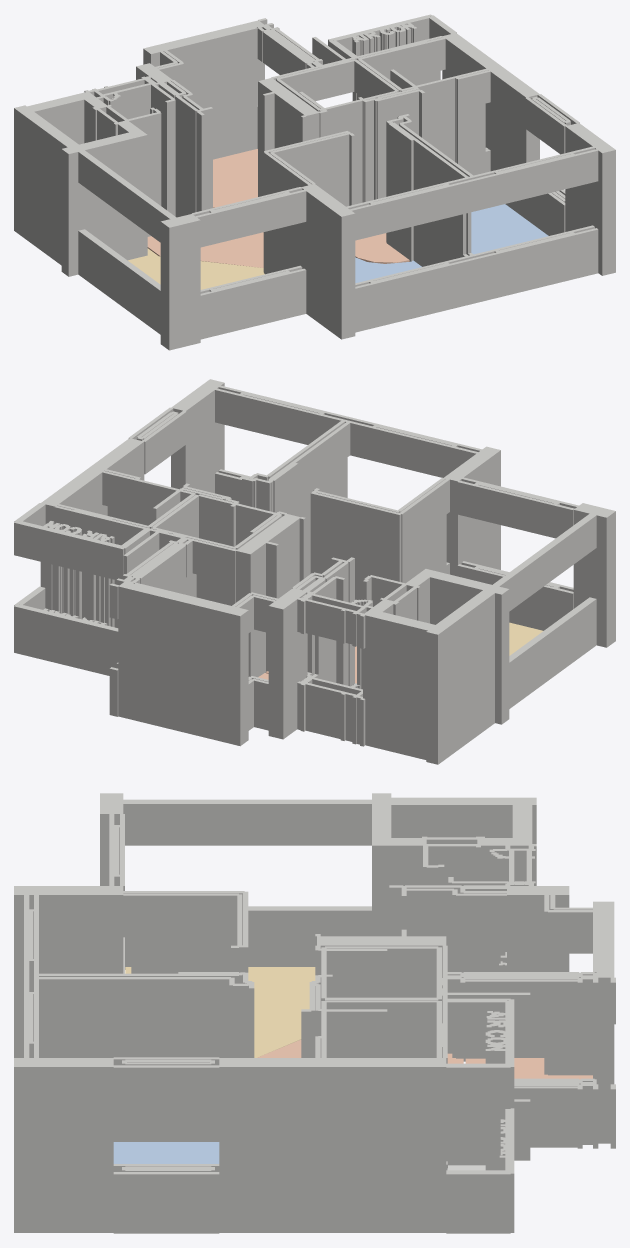
The picture shows the model from 3 angles, top to bottom: view 1: azimuth 30°, elevation 25°; view 2: azimuth 150°, elevation 25°; view 3: azimuth 270°, elevation 25°; orthographic projection. The views are drawn at different scales.
Parts seen in each view (by area): view 1: walls, room:kitchen:1, room:bedroom:2, room:kitchen:8, room:living:7, room:bedroom:4; view 2: walls, room:living:7; view 3: walls, room:living:7, room:bedroom:2, room:kitchen:8.
Part boxes in pixels (bbox=[...]): walls: bbox=[14, 14, 615, 350]; room:kitchen:1: bbox=[147, 207, 409, 267]; room:bedroom:2: bbox=[471, 204, 548, 254]; room:kitchen:8: bbox=[213, 149, 257, 207]; room:living:7: bbox=[128, 248, 264, 289]; room:bedroom:4: bbox=[355, 257, 421, 283]; walls: bbox=[14, 379, 615, 764]; room:living:7: bbox=[509, 622, 542, 655]; walls: bbox=[14, 793, 615, 1233]; room:living:7: bbox=[125, 967, 315, 1057]; room:bedroom:2: bbox=[113, 1142, 219, 1163]; room:kitchen:8: bbox=[465, 1058, 592, 1079].
Size of the model in its own units: 9.93 by 2.8 by 9.21.
